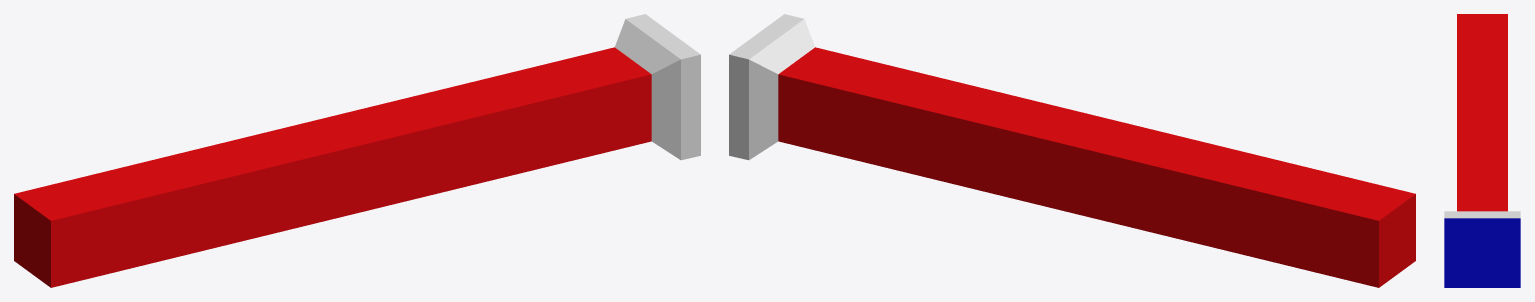
The model's file is Tank_DefaultBarrel.fbx.
The picture shows the model from 3 angles, left to right: view 1: azimuth 30°, elevation 25°; view 2: azimuth 150°, elevation 25°; view 3: azimuth 270°, elevation 25°; orthographic projection. The views are drawn at different scales.
Visible parts, largest first — view 1: Barrel; view 2: Barrel; view 3: Barrel.
Boxes of the visible parts, bbox=[...] form: Barrel: bbox=[14, 14, 700, 287]; Barrel: bbox=[729, 14, 1415, 287]; Barrel: bbox=[1444, 14, 1520, 287].
Size of the model in its own units: 400 by 60.34 by 60.
